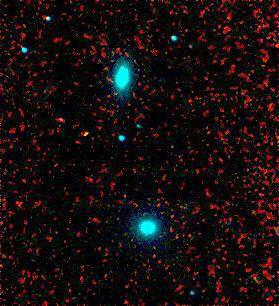star: (74, 119, 104, 149)
